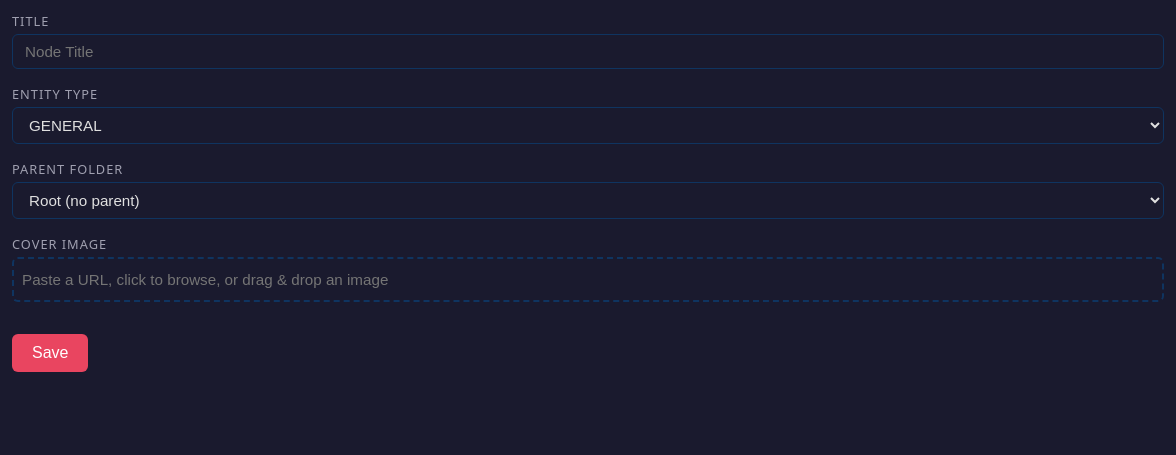
GmWikiEditor.vue — Parent Selector UI › includes parent path in preview when parent selected
Select "locations — Locations" in the dropdown with test id "wiki-parent" at [588, 200], box [12, 182, 1164, 219]
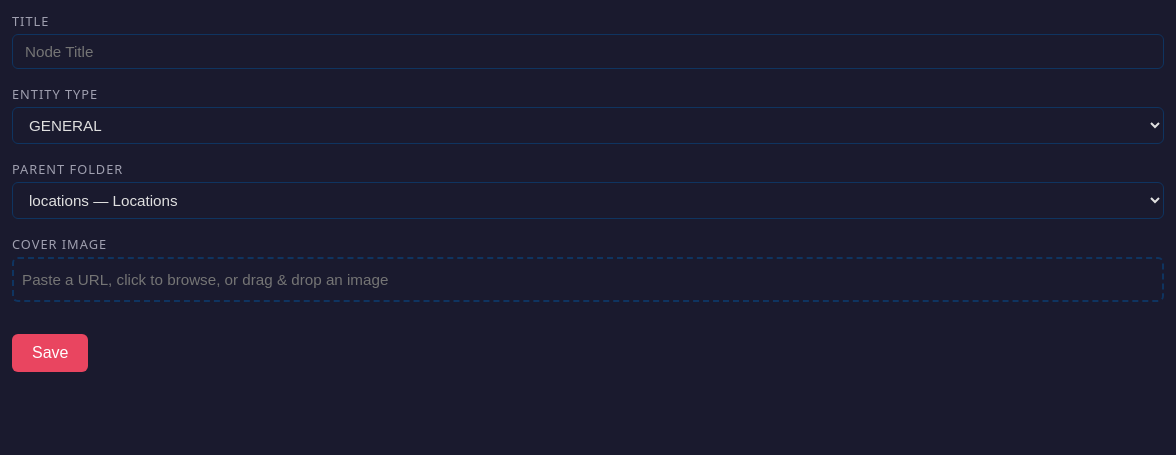
Type "Haunted Cave" into the field with test id "wiki-title" at [588, 52], box [12, 34, 1164, 69]
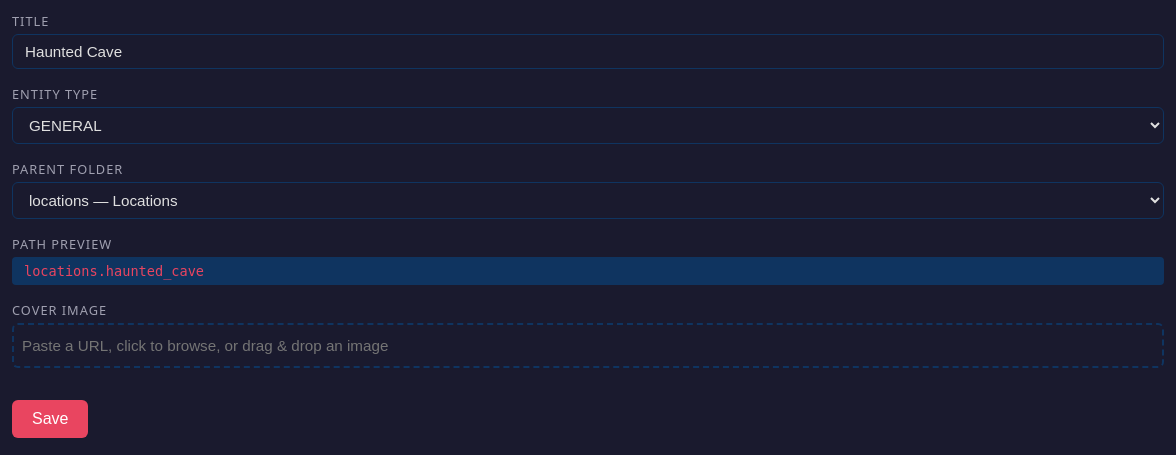
Check: the text with test id "wiki-path-preview" reads "locations.haunted_cave", box [24, 263, 204, 279]
